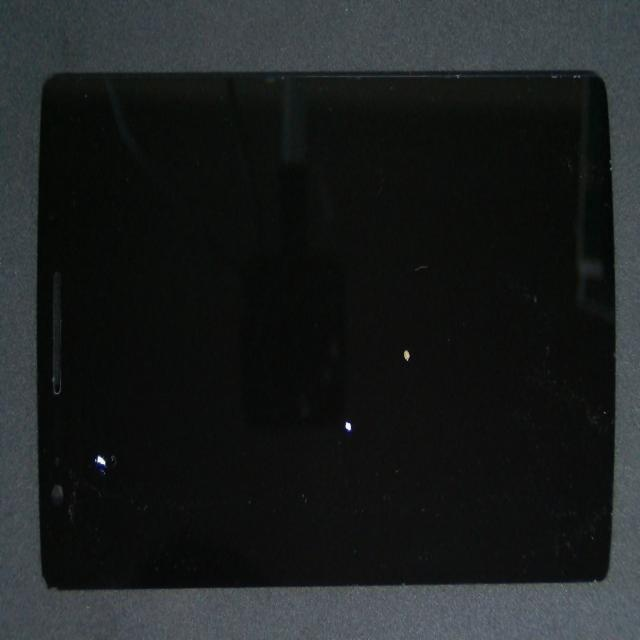stain: (158, 192, 602, 563), (186, 146, 514, 608), (21, 249, 153, 640)
